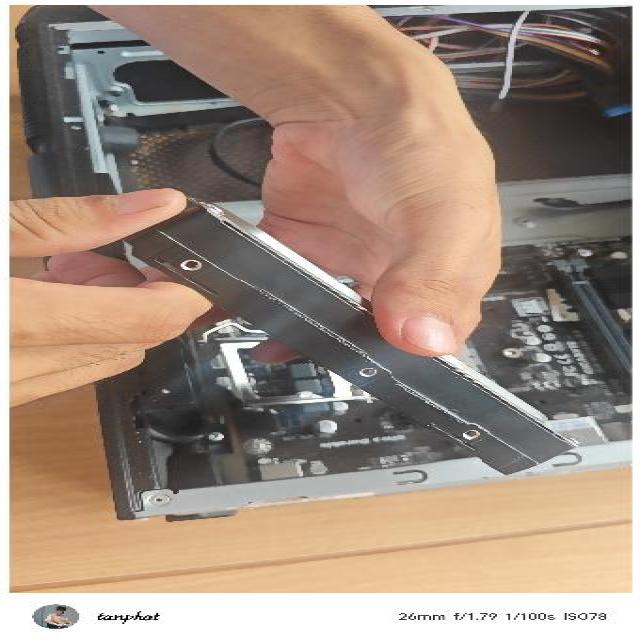DISK: (112, 187, 579, 478)
